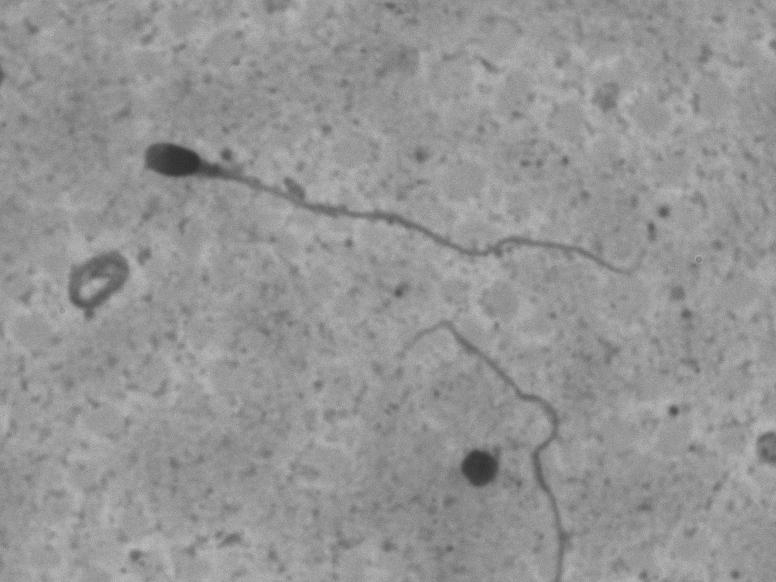Normal: (142, 106, 658, 297)
